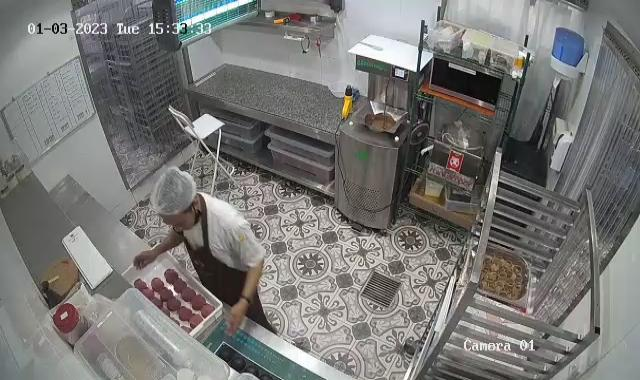hairnet: (150, 166, 200, 224)
